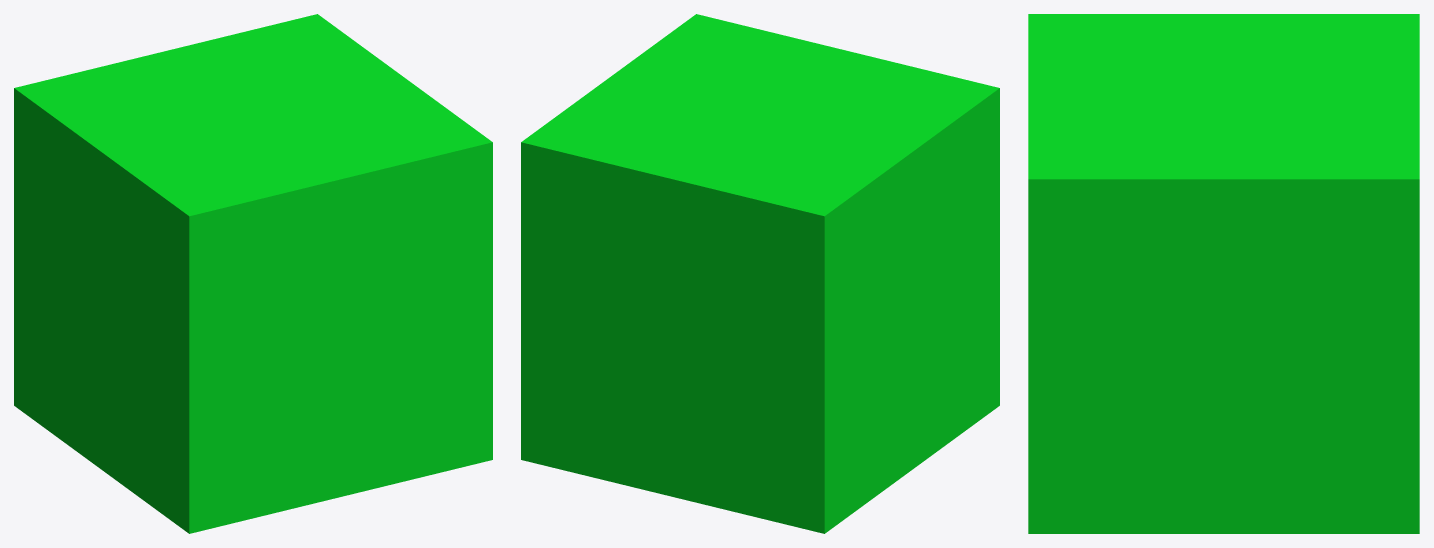
Rendered from launcher.glb.
The picture shows the model from 3 angles, left to right: view 1: azimuth 30°, elevation 25°; view 2: azimuth 150°, elevation 25°; view 3: azimuth 270°, elevation 25°; orthographic projection. The views are drawn at different scales.
Visible parts, largest first — view 1: Launcher; view 2: Launcher; view 3: Launcher.
Part boxes in pixels (left/top/right/bottom): Launcher: left=14, top=14, right=492, bottom=533; Launcher: left=521, top=14, right=999, bottom=533; Launcher: left=1028, top=14, right=1419, bottom=533.
Bounding box in the file's own units: 0.4 × 0.4 × 0.4.
